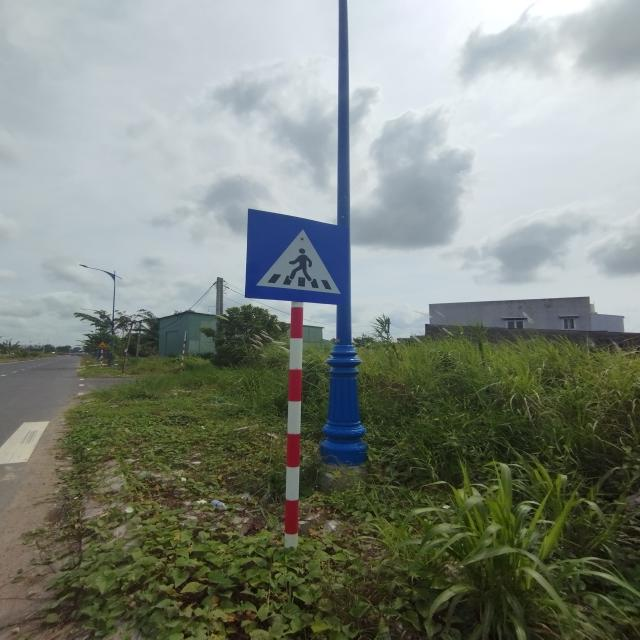Giao_Nhau_Duong_Uu_Tien: (245, 208, 350, 306)
